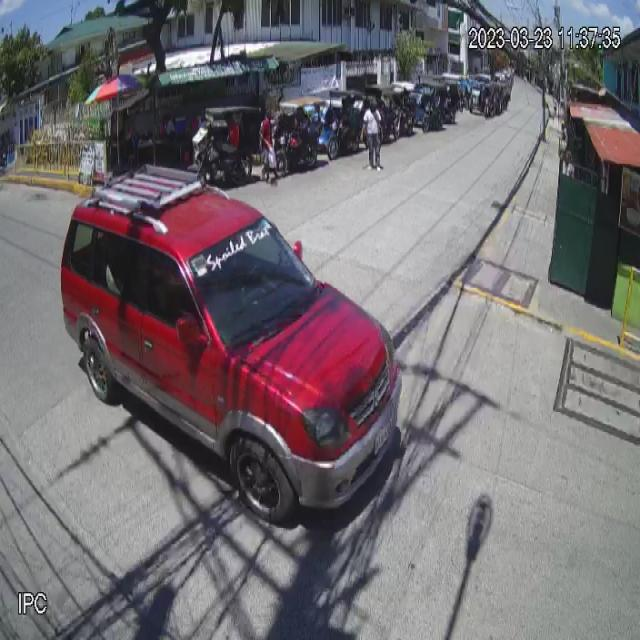Car: (61, 160, 403, 524)
